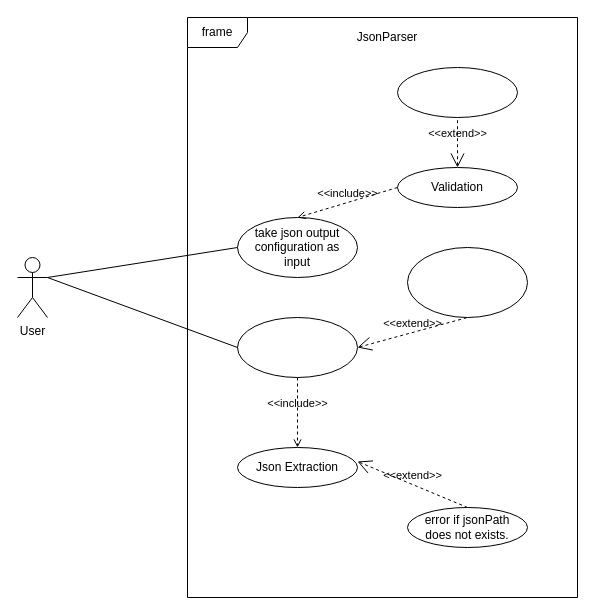
The diagram is 595 pixels wide and 615 high, and some of its shapes have lost their labels. Here are the shapes that lost their labels. From the top down, the box of each, then its label:
(396, 66, 518, 118): error if invalid or empty or wrong JsonPath
(406, 246, 528, 318): error if invalid or empty json is passed.
(236, 316, 358, 378): take json string as input
